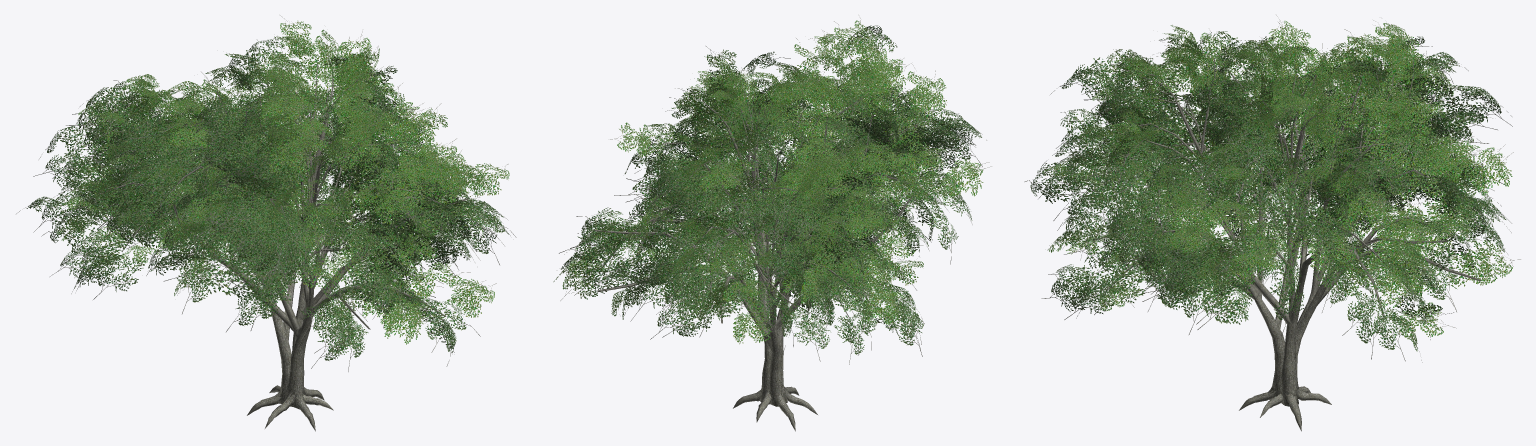
Rendered from defaultamericanelm.glb.
The picture shows the model from 3 angles, left to right: view 1: azimuth 30°, elevation 25°; view 2: azimuth 150°, elevation 25°; view 3: azimuth 270°, elevation 25°; orthographic projection. The views are drawn at different scales.
Visible parts, largest first — view 1: DefaultAmericanElm; view 2: DefaultAmericanElm; view 3: DefaultAmericanElm.
Part boxes in pixels (left/top/right/bottom): DefaultAmericanElm: left=16, top=15, right=516, bottom=431; DefaultAmericanElm: left=553, top=18, right=991, bottom=431; DefaultAmericanElm: left=1024, top=15, right=1520, bottom=431.
Bounding box in the file's own units: 12.61 × 11.69 × 13.82.
Materials: 4 (4 with a texture image).
